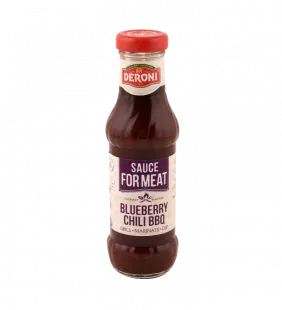DERONI: (99, 20, 188, 284)
